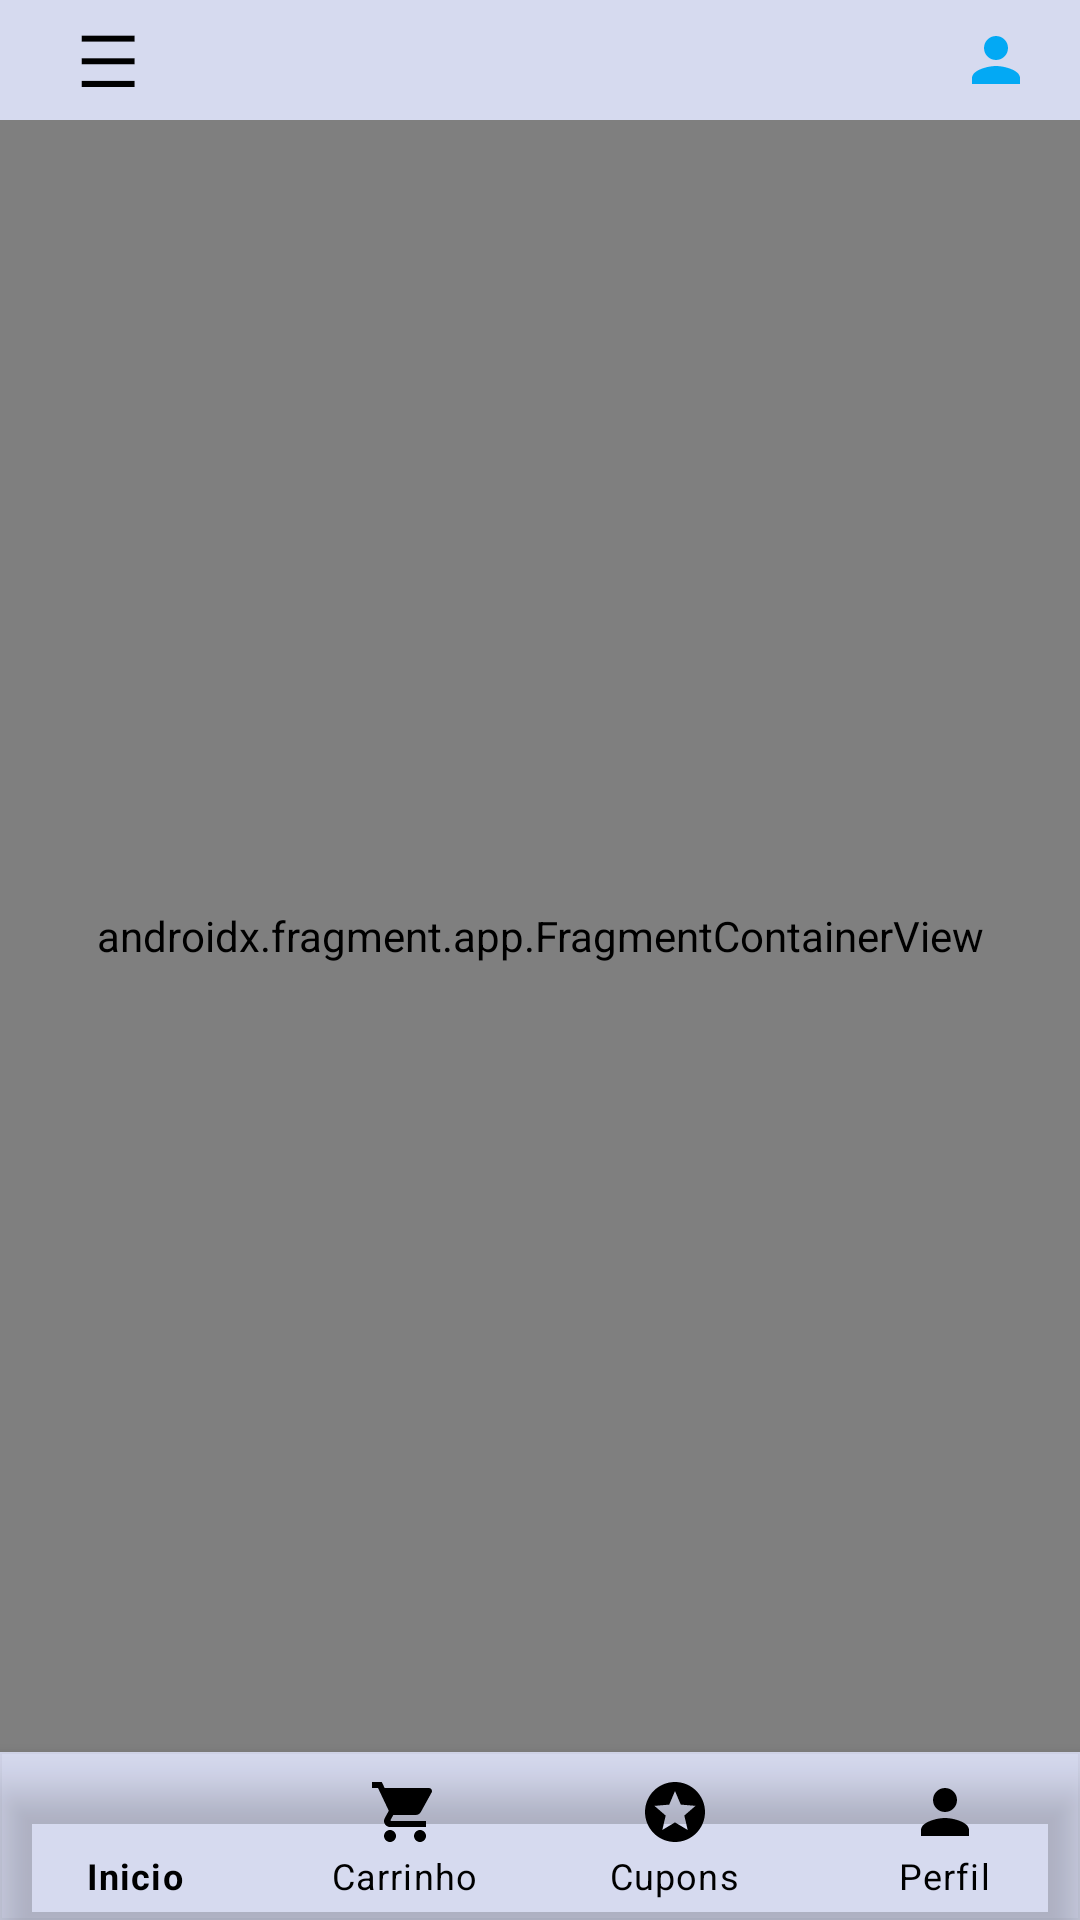

Icons on this 1080w x 1920h Android screen, each with the point to tap as (x=x, y=y):
person: (x=996, y=60)
